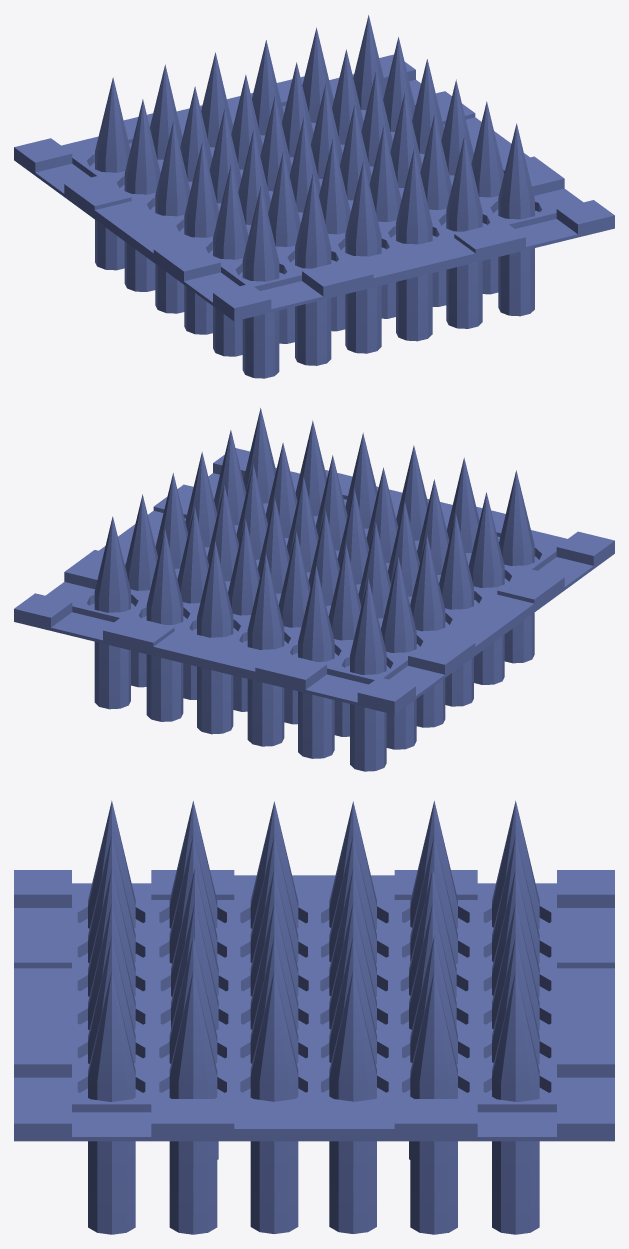
File: spike_trap_model.fbx
3 renders of one model, top to bottom at view 1: azimuth 30°, elevation 25°; view 2: azimuth 150°, elevation 25°; view 3: azimuth 270°, elevation 25°, orthographic. The views are drawn at different scales.
Parts seen in each view (by area): view 1: spikes, trap_body; view 2: spikes, trap_body; view 3: spikes, trap_body, hole.
Boxes of the visible parts, x1,y1,x2,y2 form: spikes: [95, 15, 534, 378]; trap_body: [14, 54, 614, 321]; spikes: [94, 408, 534, 771]; trap_body: [14, 448, 614, 714]; spikes: [88, 800, 539, 1234]; trap_body: [14, 870, 614, 1141]; hole: [80, 918, 548, 1098].
Bounding box in the file's own units: 7.42 × 3.46 × 7.43.
